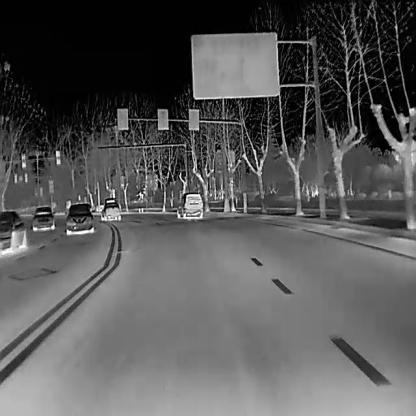car: (0, 209, 25, 251), (64, 202, 94, 234), (175, 191, 203, 217), (30, 206, 54, 230), (100, 196, 121, 219)
